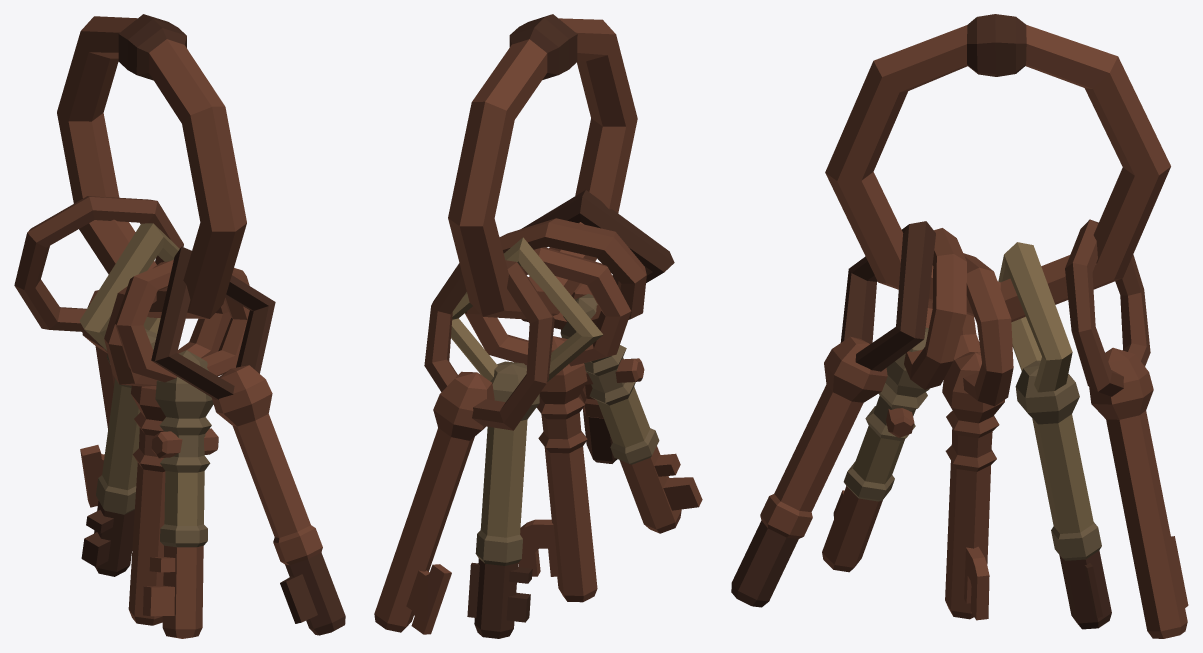
Rendered from SM_Prop_Key_Ring_01.fbx.
3 renders of one model, left to right at view 1: azimuth 30°, elevation 25°; view 2: azimuth 150°, elevation 25°; view 3: azimuth 270°, elevation 25°, orthographic. The views are drawn at different scales.
Visible parts, largest first — view 1: SM_Prop_Key_Ring_01; view 2: SM_Prop_Key_Ring_01; view 3: SM_Prop_Key_Ring_01.
Boxes of the visible parts, <box> form: SM_Prop_Key_Ring_01: <box>14,14,345,638</box>; SM_Prop_Key_Ring_01: <box>374,14,702,638</box>; SM_Prop_Key_Ring_01: <box>731,14,1188,638</box>.
Size of the model in its own units: 7.63 by 25.59 by 17.38.
